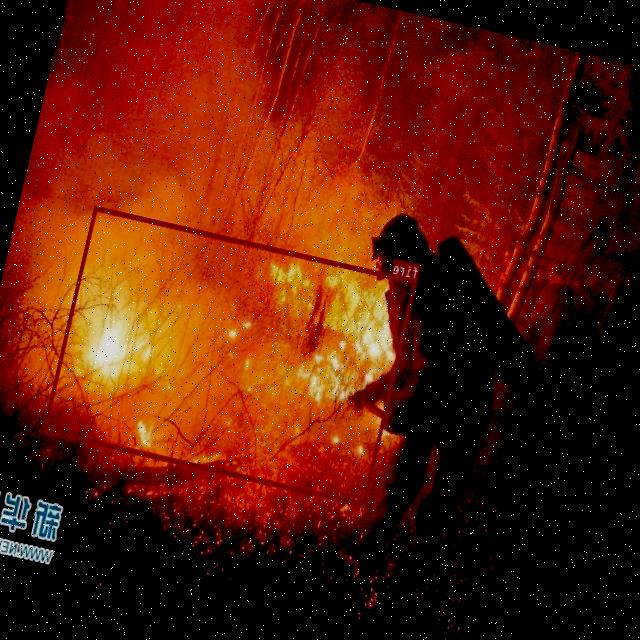fire: (42, 205, 417, 506)
